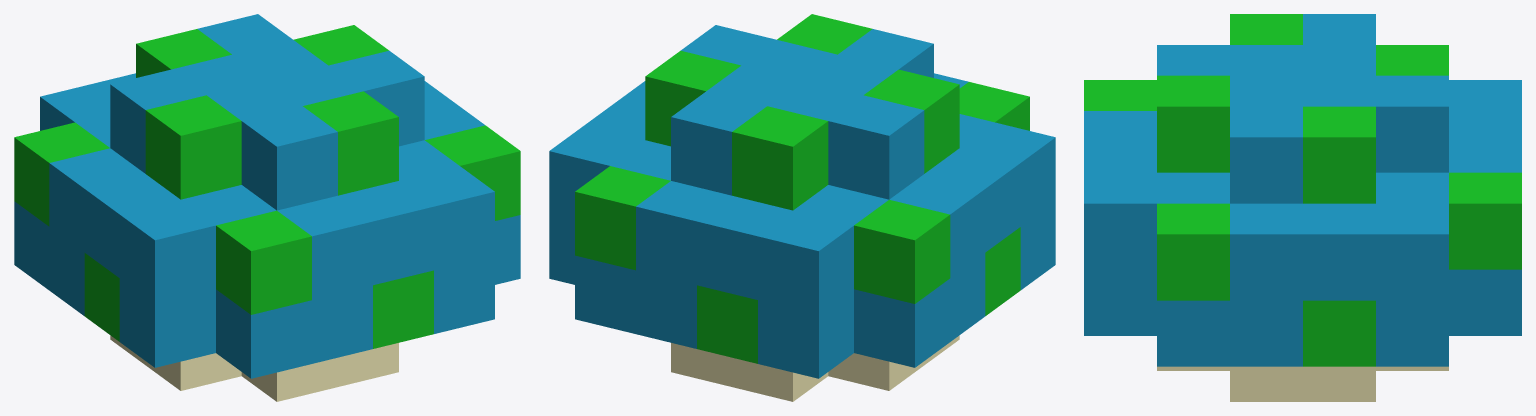
File: Mushroom3_L.obj
The picture shows the model from 3 angles, left to right: view 1: azimuth 30°, elevation 25°; view 2: azimuth 150°, elevation 25°; view 3: azimuth 270°, elevation 25°; orthographic projection. The views are drawn at different scales.
Visible parts, largest first — view 1: Mushroom3_L; view 2: Mushroom3_L; view 3: Mushroom3_L.
Boxes of the visible parts, box(x1,y1,x2,y2) form: Mushroom3_L: box(14, 14, 520, 401); Mushroom3_L: box(549, 14, 1055, 401); Mushroom3_L: box(1084, 14, 1521, 401).
Bounding box in the file's own units: 0.6 × 0.4 × 0.6.
1 material, 1 textured.
